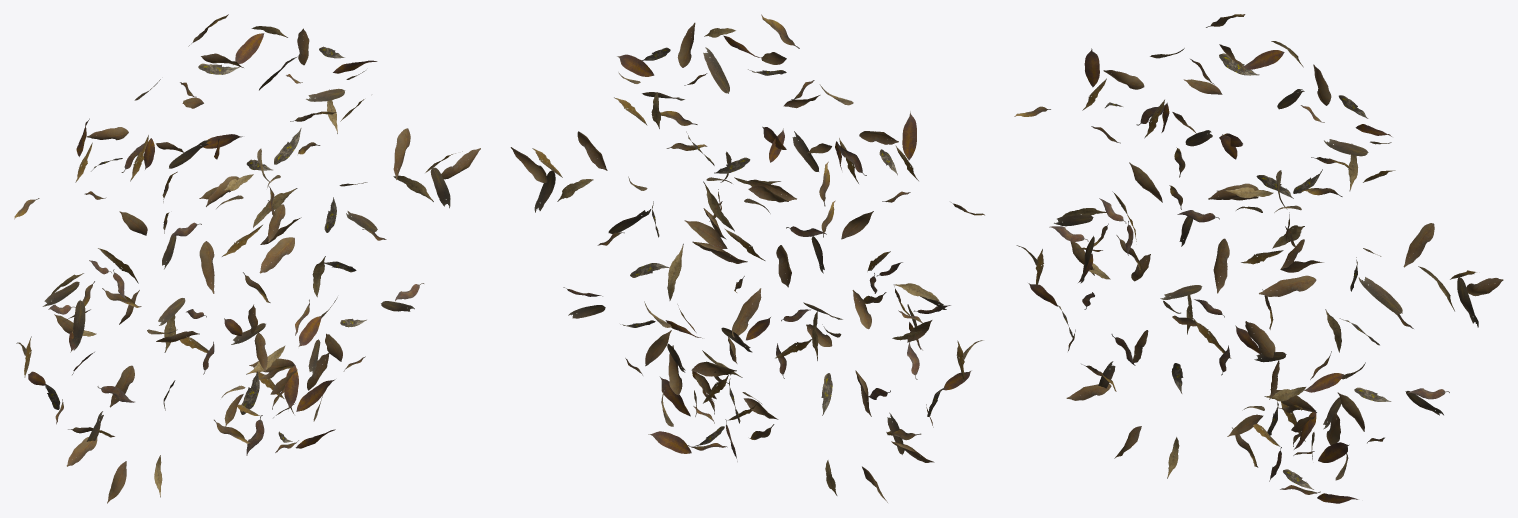
The model's file is Leaf_Pile_03_Var3_LOD0.fbx.
The picture shows the model from 3 angles, left to right: view 1: azimuth 30°, elevation 25°; view 2: azimuth 150°, elevation 25°; view 3: azimuth 330°, elevation 25°; orthographic projection. The views are drawn at different scales.
Parts seen in each view (by area): view 1: Var3_LOD0; view 2: Var3_LOD0; view 3: Var3_LOD0.
Boxes of the visible parts, x1,y1,x2,y2 form: Var3_LOD0: (14,14,480,503); Var3_LOD0: (510,14,984,502); Var3_LOD0: (1014,14,1503,503).
Bounding box in the file's own units: 115 × 109 × 8.28.
